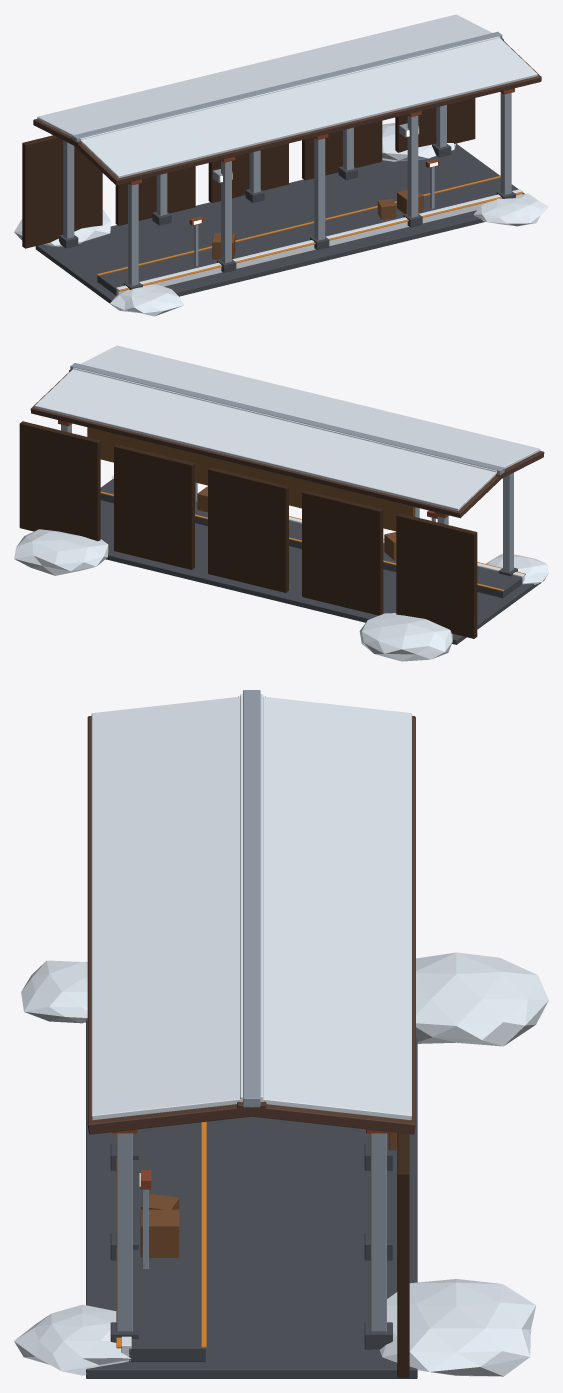
Rendered from MenuTrainShed.fbx.
The picture shows the model from 3 angles, top to bottom: view 1: azimuth 30°, elevation 25°; view 2: azimuth 150°, elevation 25°; view 3: azimuth 270°, elevation 25°; orthographic projection. The views are drawn at different scales.
Visible parts, largest first — view 1: MenuTrainShed; view 2: MenuTrainShed; view 3: MenuTrainShed.
Boxes of the visible parts, <box> form: MenuTrainShed: <box>14,14,548,316</box>; MenuTrainShed: <box>14,345,548,661</box>; MenuTrainShed: <box>14,690,548,1378</box>.
Size of the model in its own units: 2900 by 923 by 1516.
